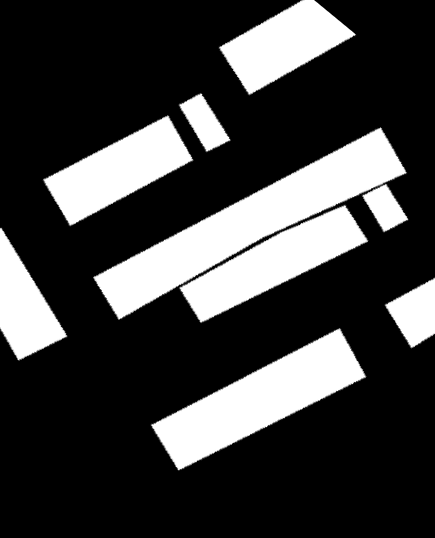parkingspot: (93, 127, 408, 319), (151, 328, 366, 470), (180, 205, 368, 323), (43, 115, 193, 226), (219, 0, 356, 95), (0, 228, 67, 360), (385, 278, 435, 348), (179, 93, 230, 152)
